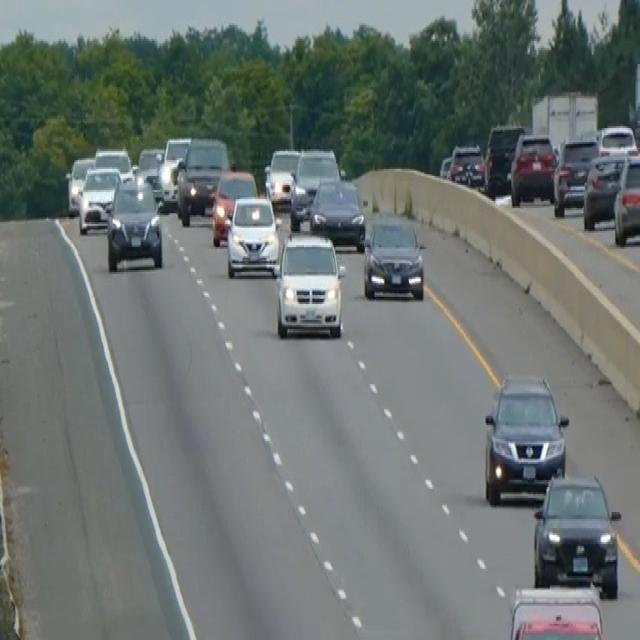car: (482, 370, 569, 505), (532, 471, 621, 597), (105, 174, 163, 272), (362, 212, 425, 300), (506, 583, 605, 638), (175, 135, 229, 226), (225, 192, 280, 277), (308, 174, 366, 251), (289, 146, 340, 229), (552, 135, 599, 215), (210, 167, 258, 245), (509, 130, 556, 206), (582, 150, 626, 230), (77, 163, 121, 233), (483, 121, 525, 194), (612, 151, 639, 245), (158, 135, 191, 206), (264, 146, 300, 206), (65, 155, 95, 215), (448, 142, 485, 188), (136, 144, 164, 201), (94, 144, 133, 183), (597, 123, 637, 158), (438, 153, 452, 179)
lorry: (530, 87, 599, 153)
minivan: (272, 230, 346, 342)
